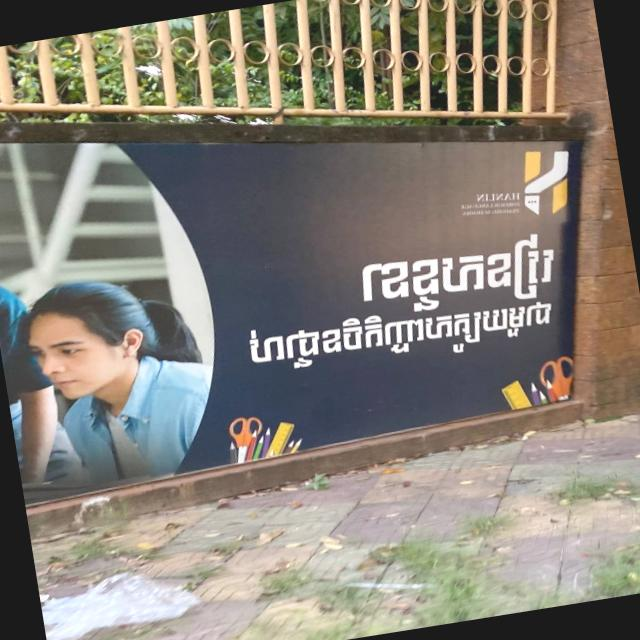Yolov11kh: (241, 297, 559, 383), (352, 229, 568, 320)
